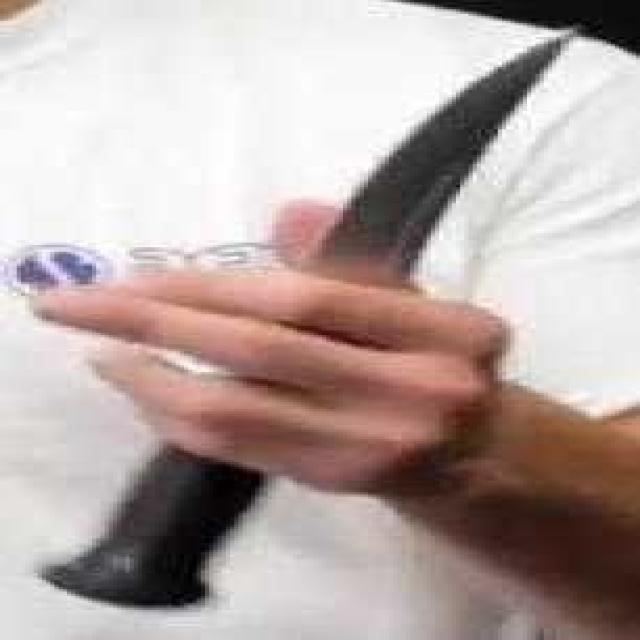Knife: (33, 6, 601, 620)
